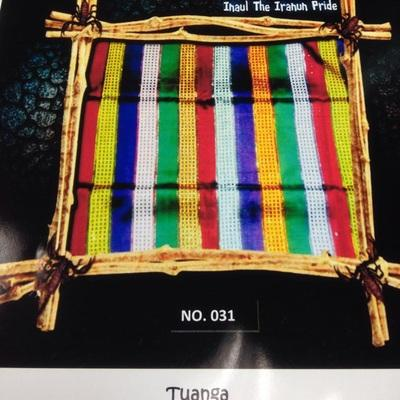malong: (72, 36, 361, 268)
